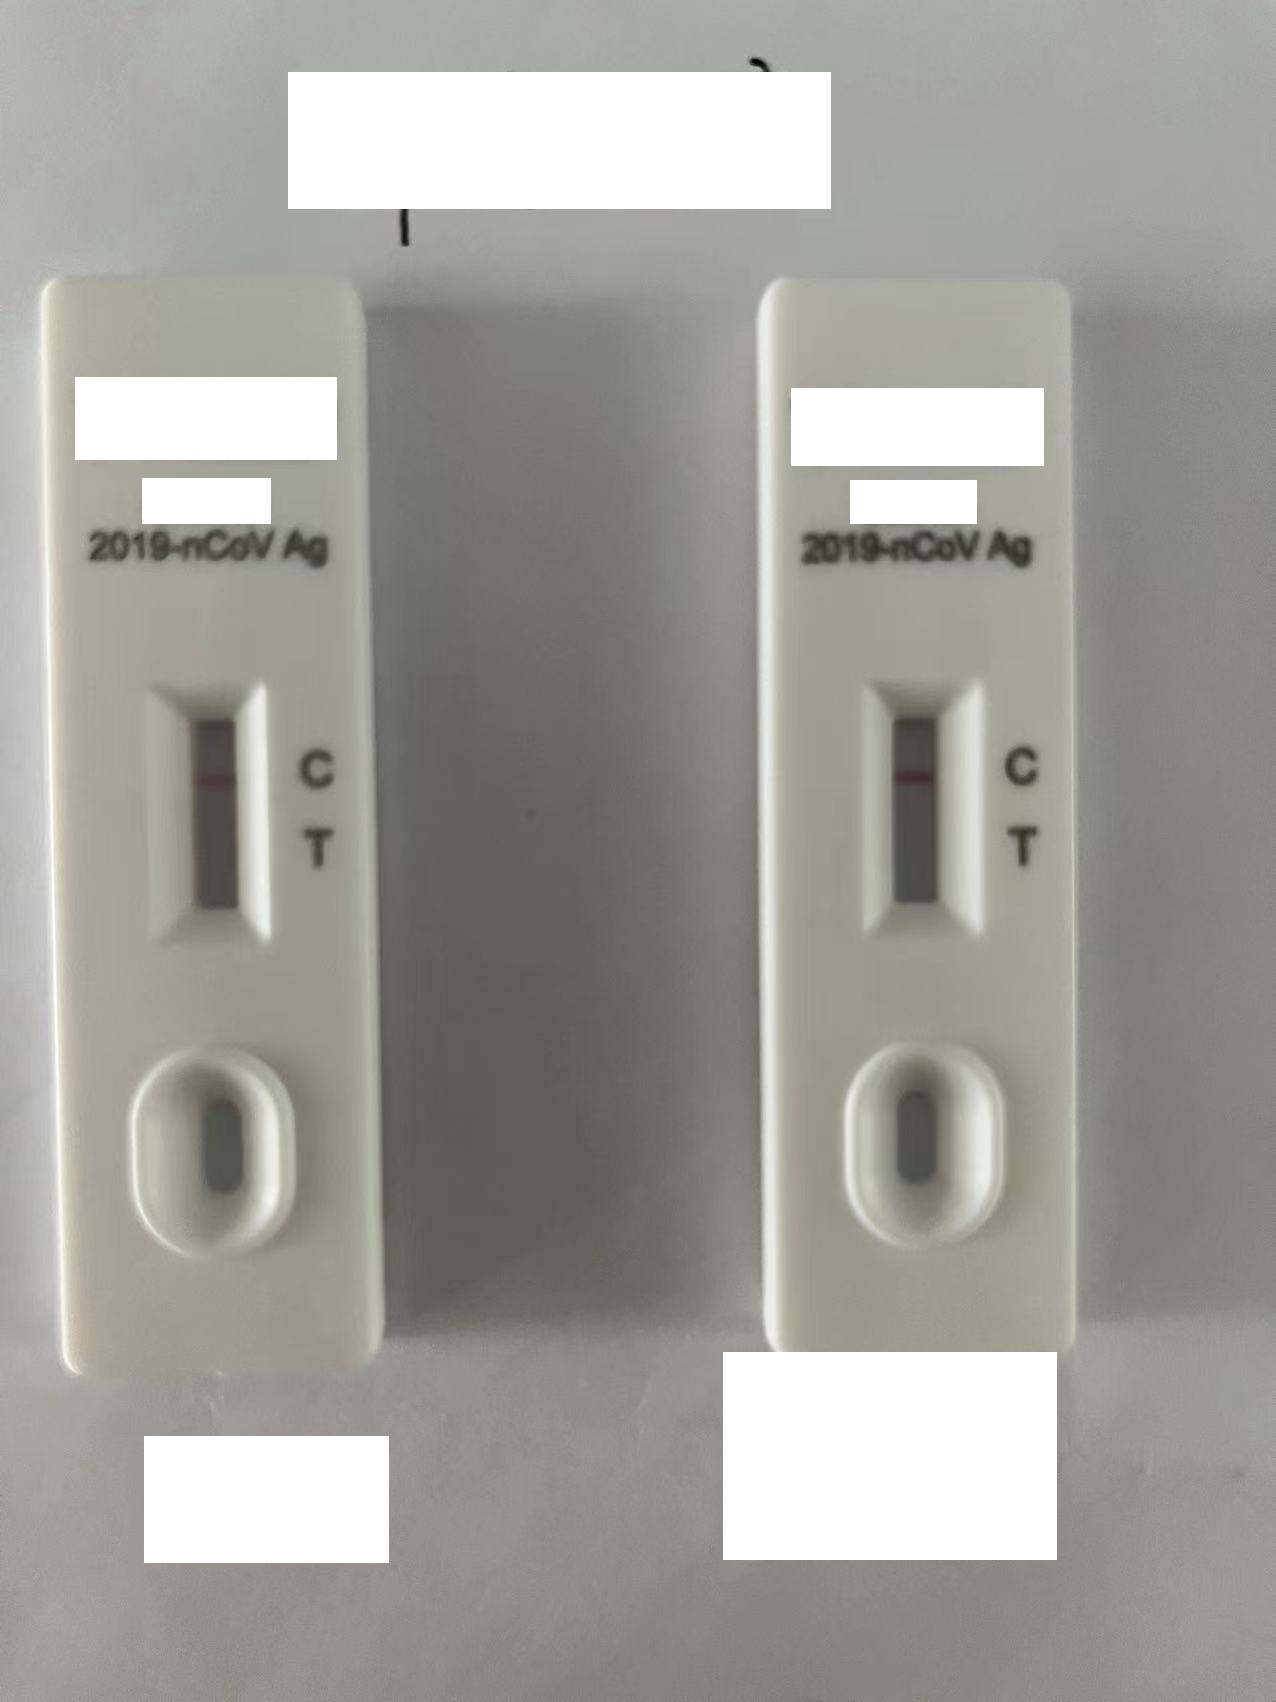negative: (154, 681, 260, 945), (869, 677, 970, 937)
